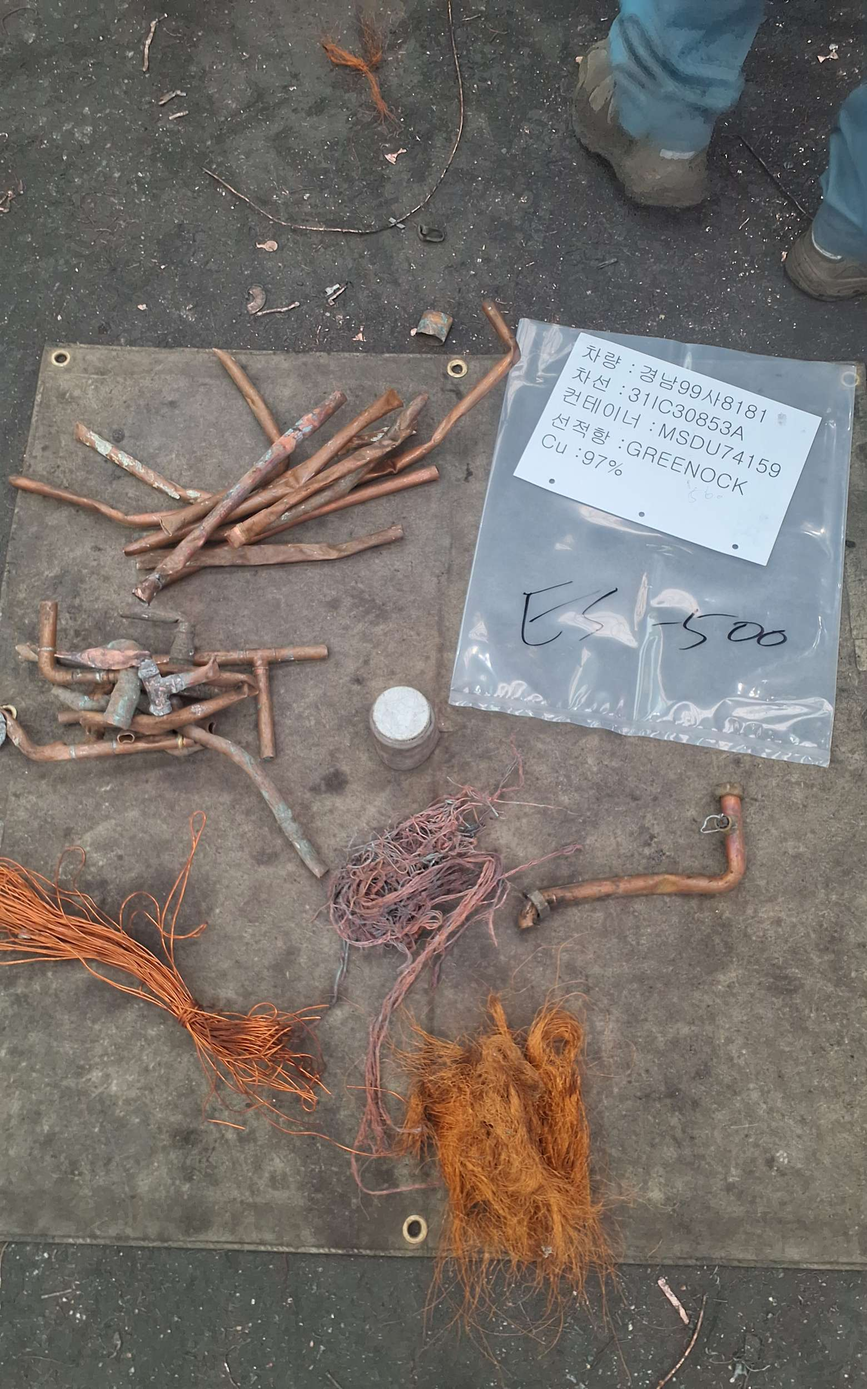Brass_Attach_70: (520, 782, 746, 932)
